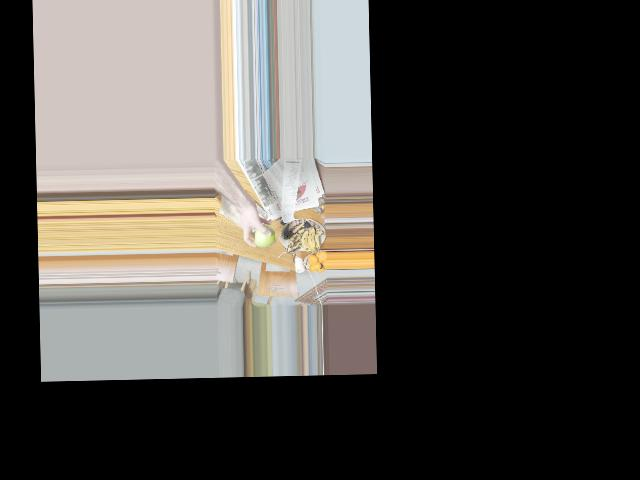apple: (254, 223, 276, 247)
